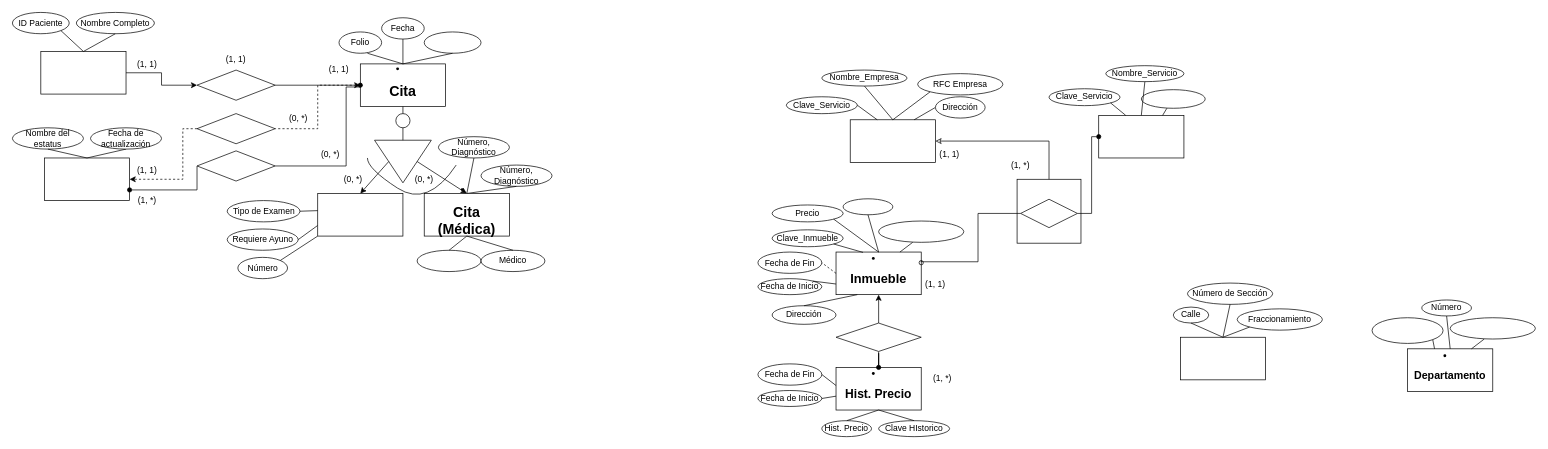
This 1548x449 diagram has some shape labels left out. The shapes that lost their labels are listed below. From the top down, each one's centre as x and y in pixels, then its label:
point (452, 42): Tipo de Cita
point (83, 72): Paciente
point (235, 84): registra
point (1173, 98): Descripción
point (235, 128): tiene
point (892, 140): Empresa
point (1141, 136): Servicio
point (87, 179): Estatus Cita
point (235, 165): historial
point (360, 214): Cita (Lab.)
point (867, 206): Ubicación
point (1048, 213): Presta
point (921, 231): RFC Propietario
point (448, 261): Consultorio
point (878, 336): Historial Precio
point (1407, 330): Unidad Habitacional
point (1492, 328): Clave de Edificio
point (1223, 358): Casa
